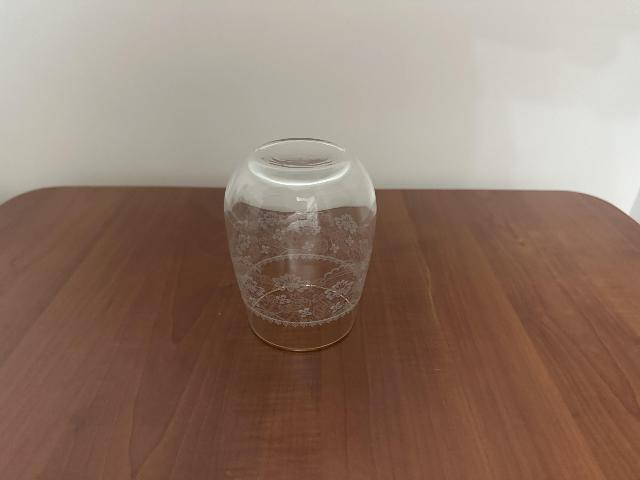Cam: (217, 135, 378, 352)
